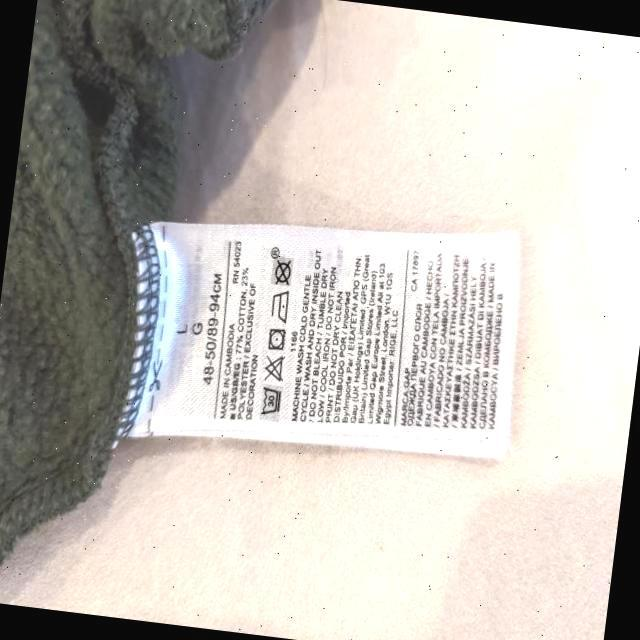30C: (259, 384, 285, 417)
DN_bleach: (262, 354, 287, 383)
DN_dry_clean: (273, 258, 294, 285)
iron_low: (270, 290, 293, 325)
tumble_dry_low: (267, 327, 287, 352)
